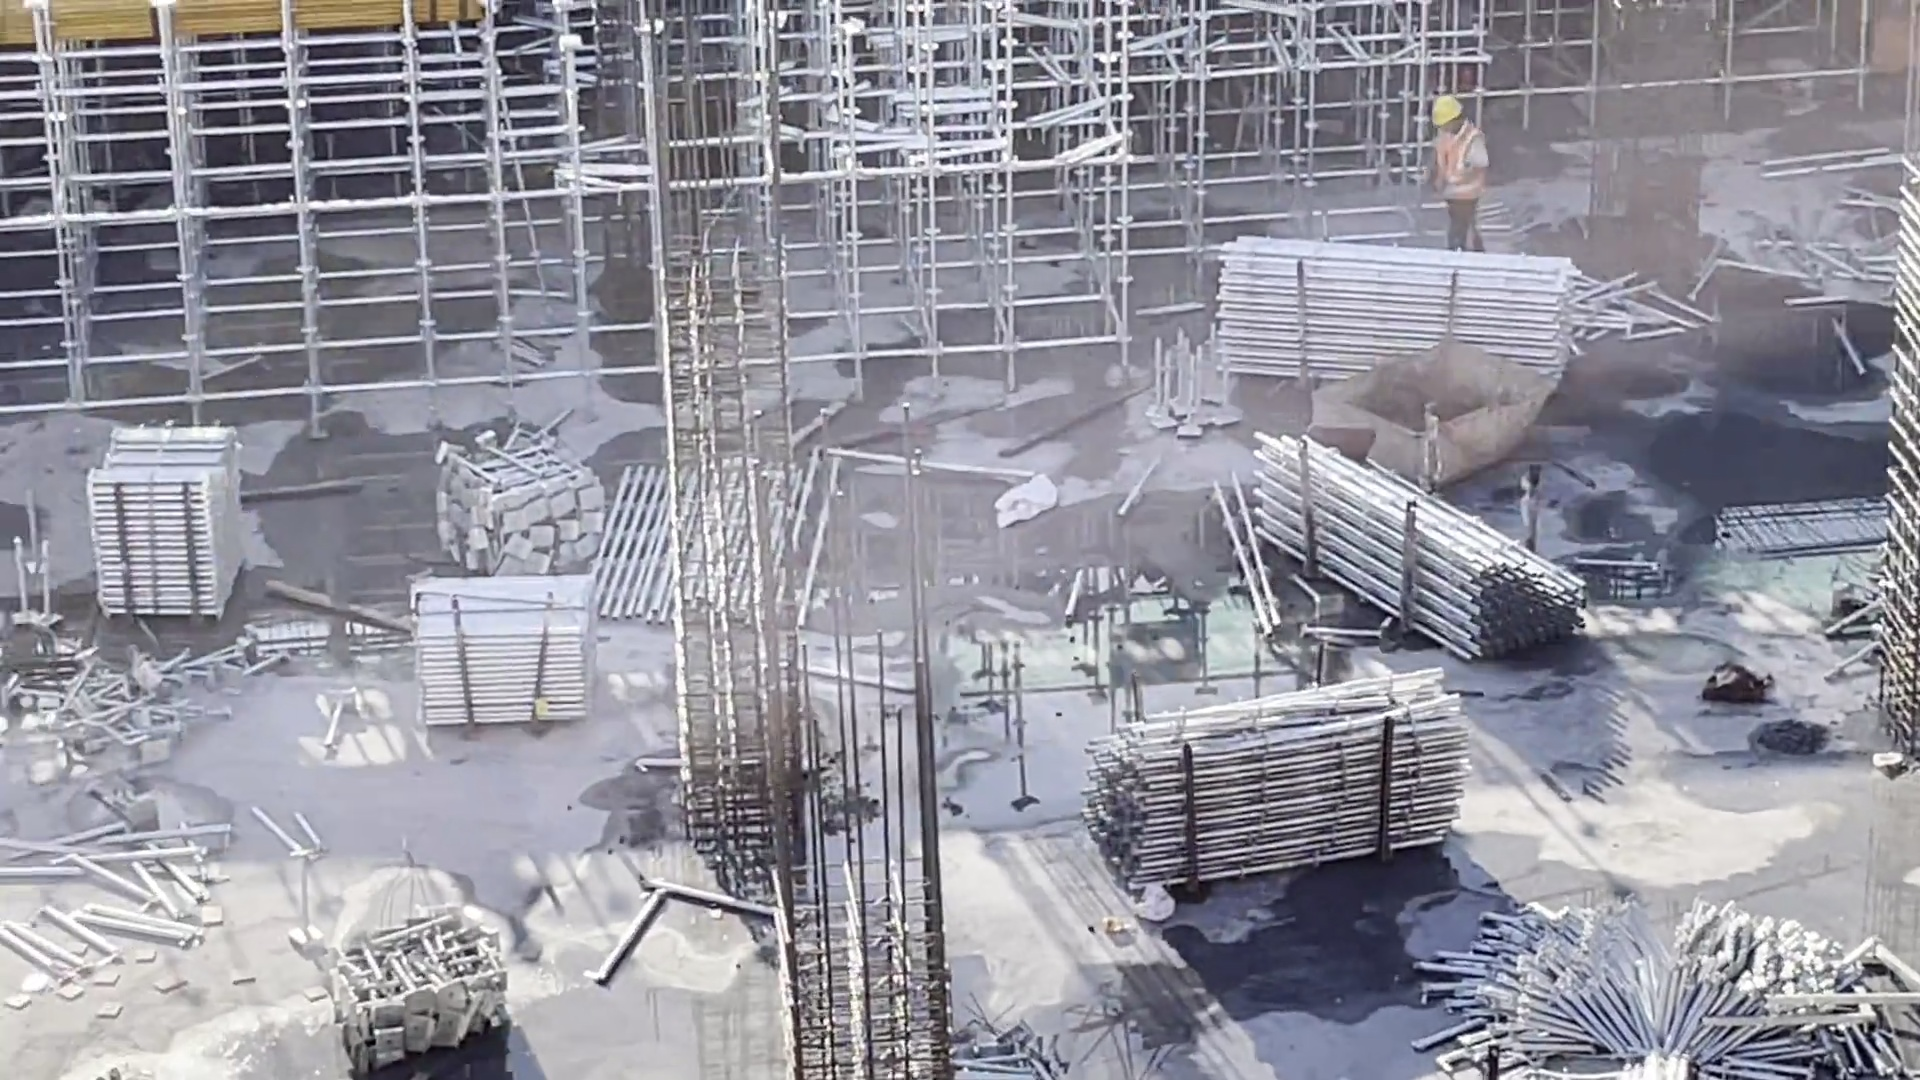helmet: (1436, 93, 1469, 128)
hopper: (1323, 338, 1562, 493)
person: (1426, 98, 1504, 275)
scaffold: (1421, 885, 1920, 1074), (1196, 233, 1607, 403), (1096, 690, 1463, 866), (1263, 431, 1545, 642), (82, 418, 242, 624), (295, 899, 501, 1052), (391, 573, 594, 722), (416, 423, 596, 574), (58, 674, 232, 759)
vest: (1434, 130, 1480, 206)
